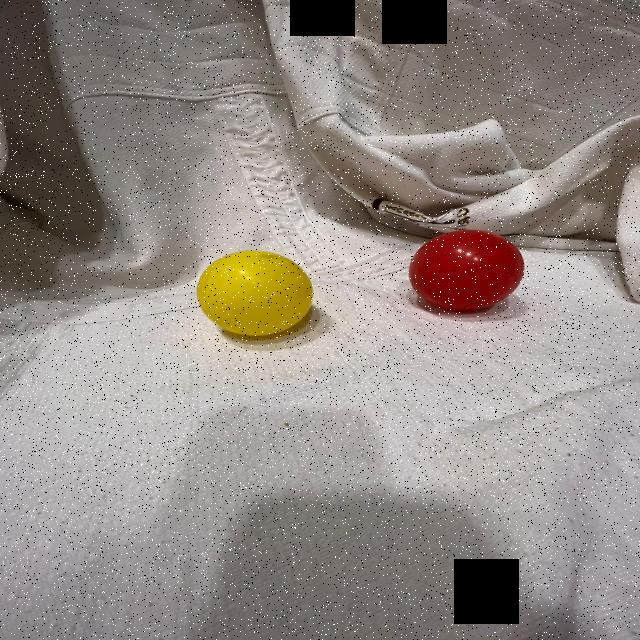ball: (194, 248, 317, 340), (406, 227, 528, 313)
